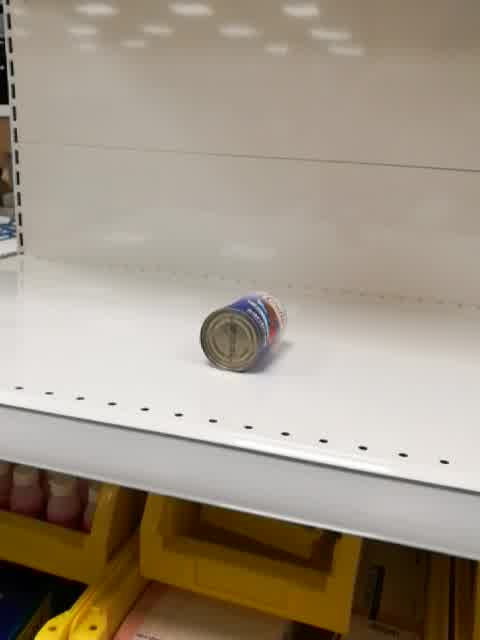sardine: (199, 290, 288, 374)
